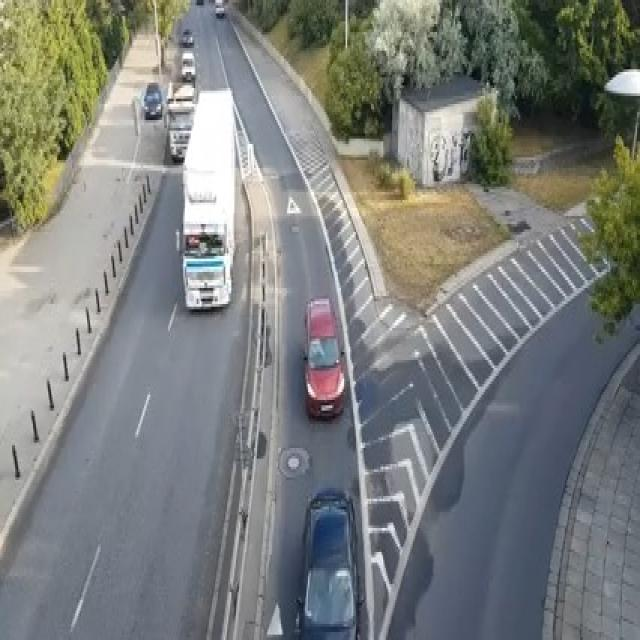bus: (174, 86, 236, 310)
car: (295, 488, 359, 637), (302, 296, 346, 419), (167, 101, 195, 163), (143, 80, 162, 117), (180, 51, 196, 80), (180, 27, 192, 45), (213, 0, 224, 16), (195, 0, 204, 5)
